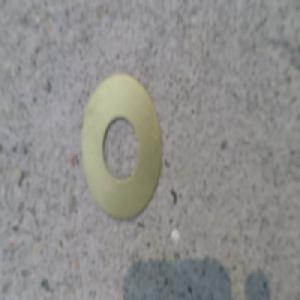Washer: (81, 74, 165, 226)
